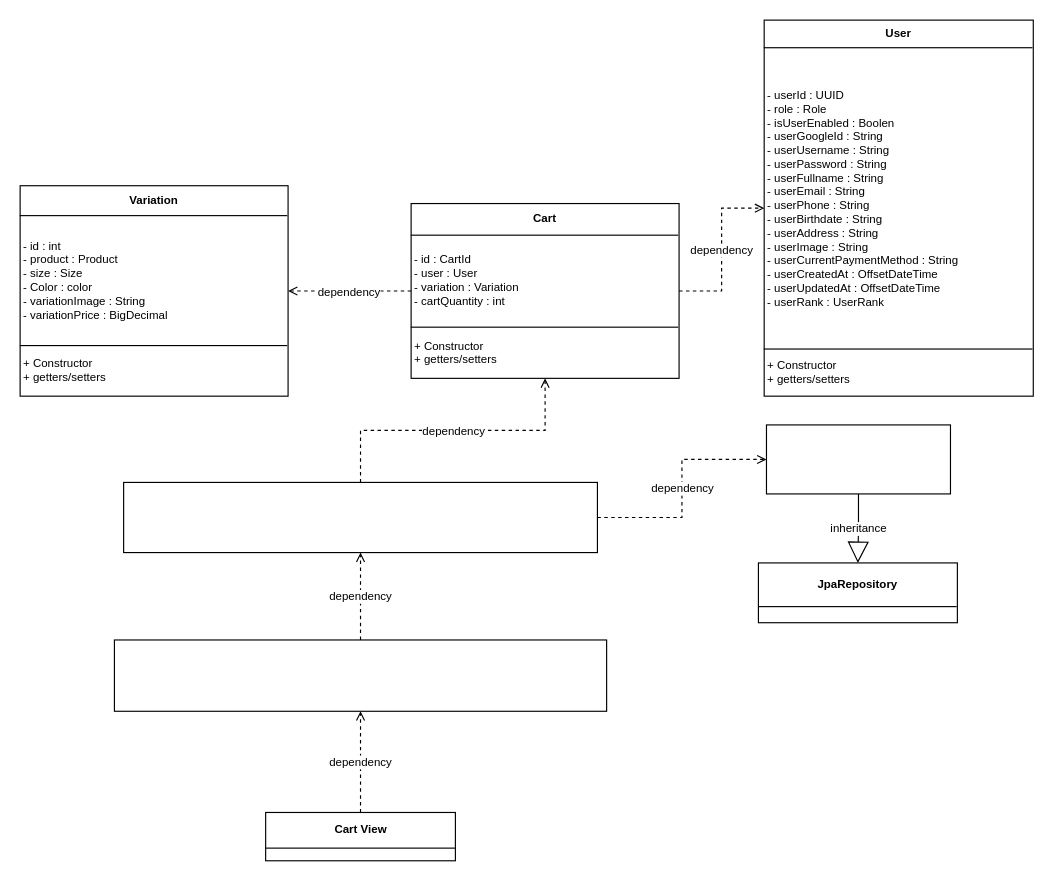
The diagram is 1053 pixels wide and 881 high, and some of its shapes have lost their labels. Each missing label, with the centre of its shape:
CartRepository + findById() : cart: pixel 857 459
CartRestController + removeFromCart(int variationId) : ResponseEntity<?>: pixel 360 675
CartService + removeFromCart(String userId, Integer variationId) : void: pixel 359 517
